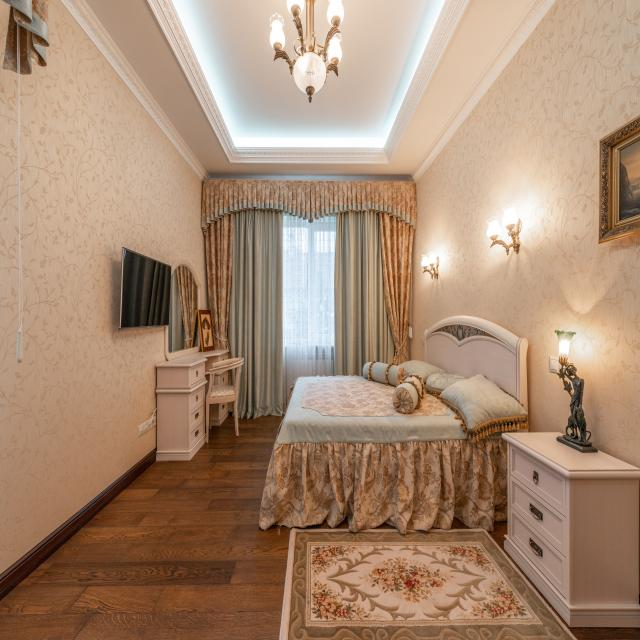floor: (0, 412, 291, 640)
wall: (410, 0, 640, 469), (480, 332, 505, 344), (452, 325, 459, 336), (469, 326, 476, 334), (458, 326, 462, 339), (433, 328, 442, 333), (469, 333, 478, 337), (464, 327, 469, 334), (477, 329, 483, 334), (447, 325, 451, 331), (453, 332, 457, 338), (464, 333, 468, 339), (451, 327, 455, 331), (442, 327, 446, 331), (446, 331, 451, 334)
